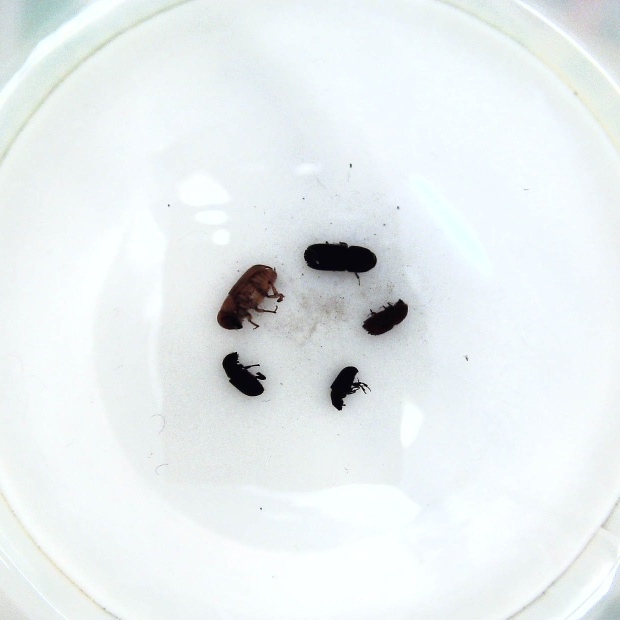armandi: (218, 350, 267, 401)
boerner: (302, 240, 379, 282)
coleoptera: (327, 365, 375, 411)
leconte: (213, 262, 286, 331)
linnaeus: (361, 297, 413, 337)
